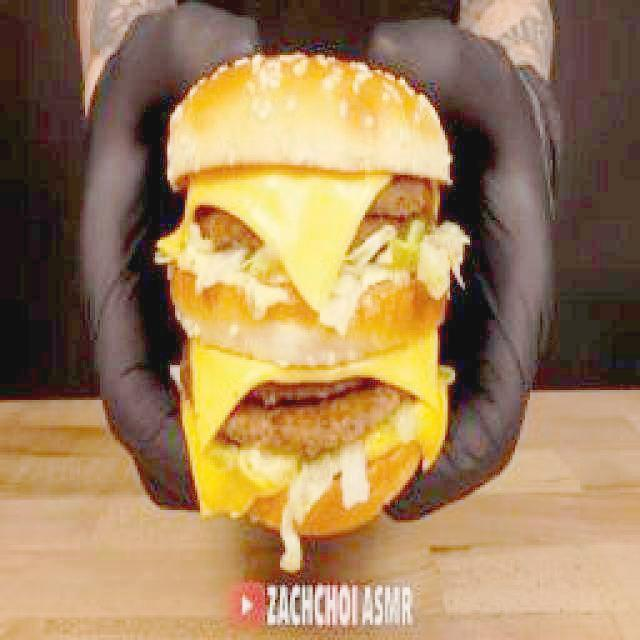burger: (150, 44, 466, 563)
